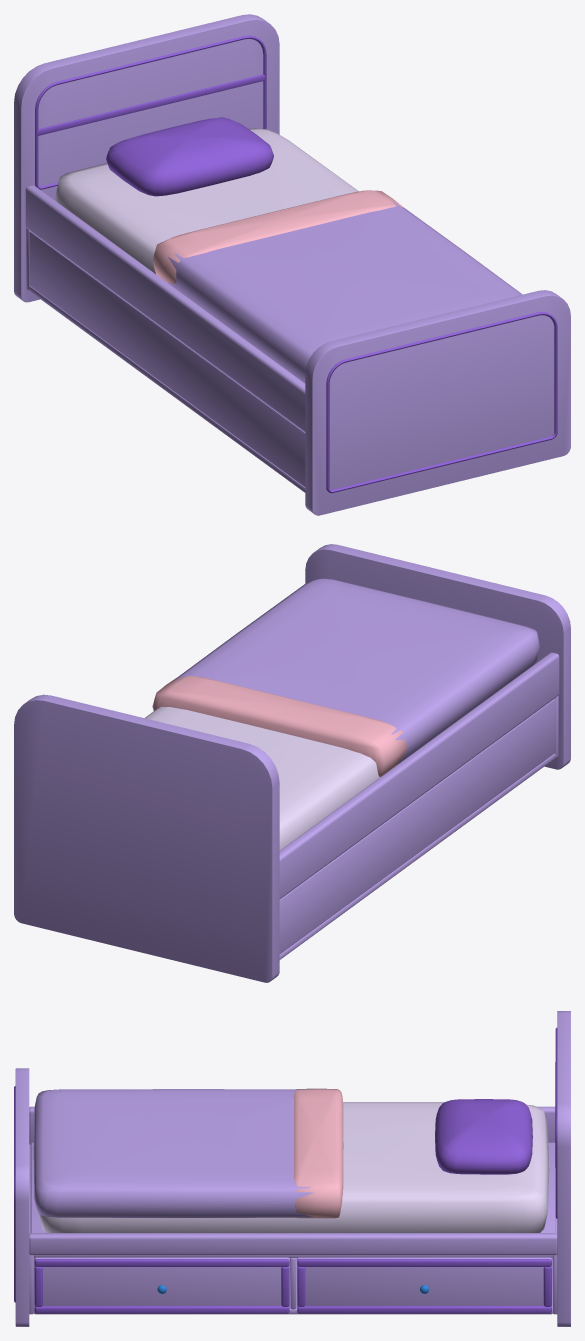
File: cama_infantil_gavetas_lilas.glb
The picture shows the model from 3 angles, top to bottom: view 1: azimuth 30°, elevation 25°; view 2: azimuth 150°, elevation 25°; view 3: azimuth 270°, elevation 25°; orthographic projection. The views are drawn at different scales.
Visible parts, largest first — view 1: cama_infantil_gavetas_lilas; view 2: cama_infantil_gavetas_lilas; view 3: cama_infantil_gavetas_lilas, gaveta_1, gaveta_2.
Part boxes in pixels (box(x1,y1,x2,y2)): cama_infantil_gavetas_lilas: box(14, 14, 570, 515); cama_infantil_gavetas_lilas: box(14, 544, 570, 982); cama_infantil_gavetas_lilas: box(14, 1011, 570, 1326); gaveta_1: box(34, 1257, 289, 1313); gaveta_2: box(297, 1257, 551, 1313).
Bounding box in the file's own units: 1.06 × 0.86 × 2.05.
1 material, 1 textured.
